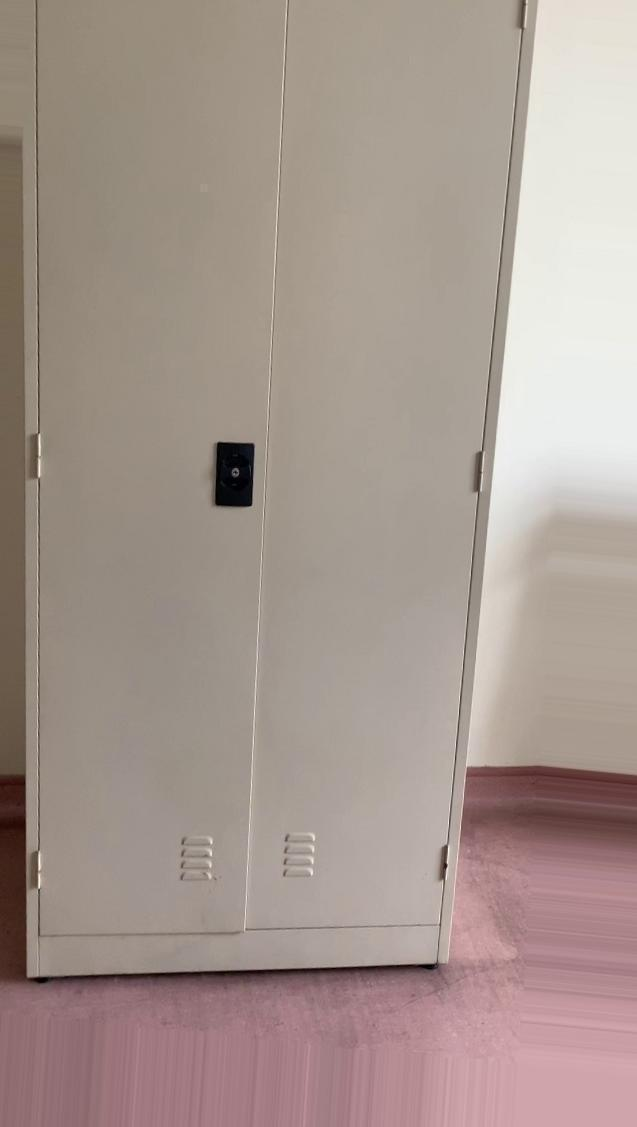Armario: (0, 10, 536, 975)
